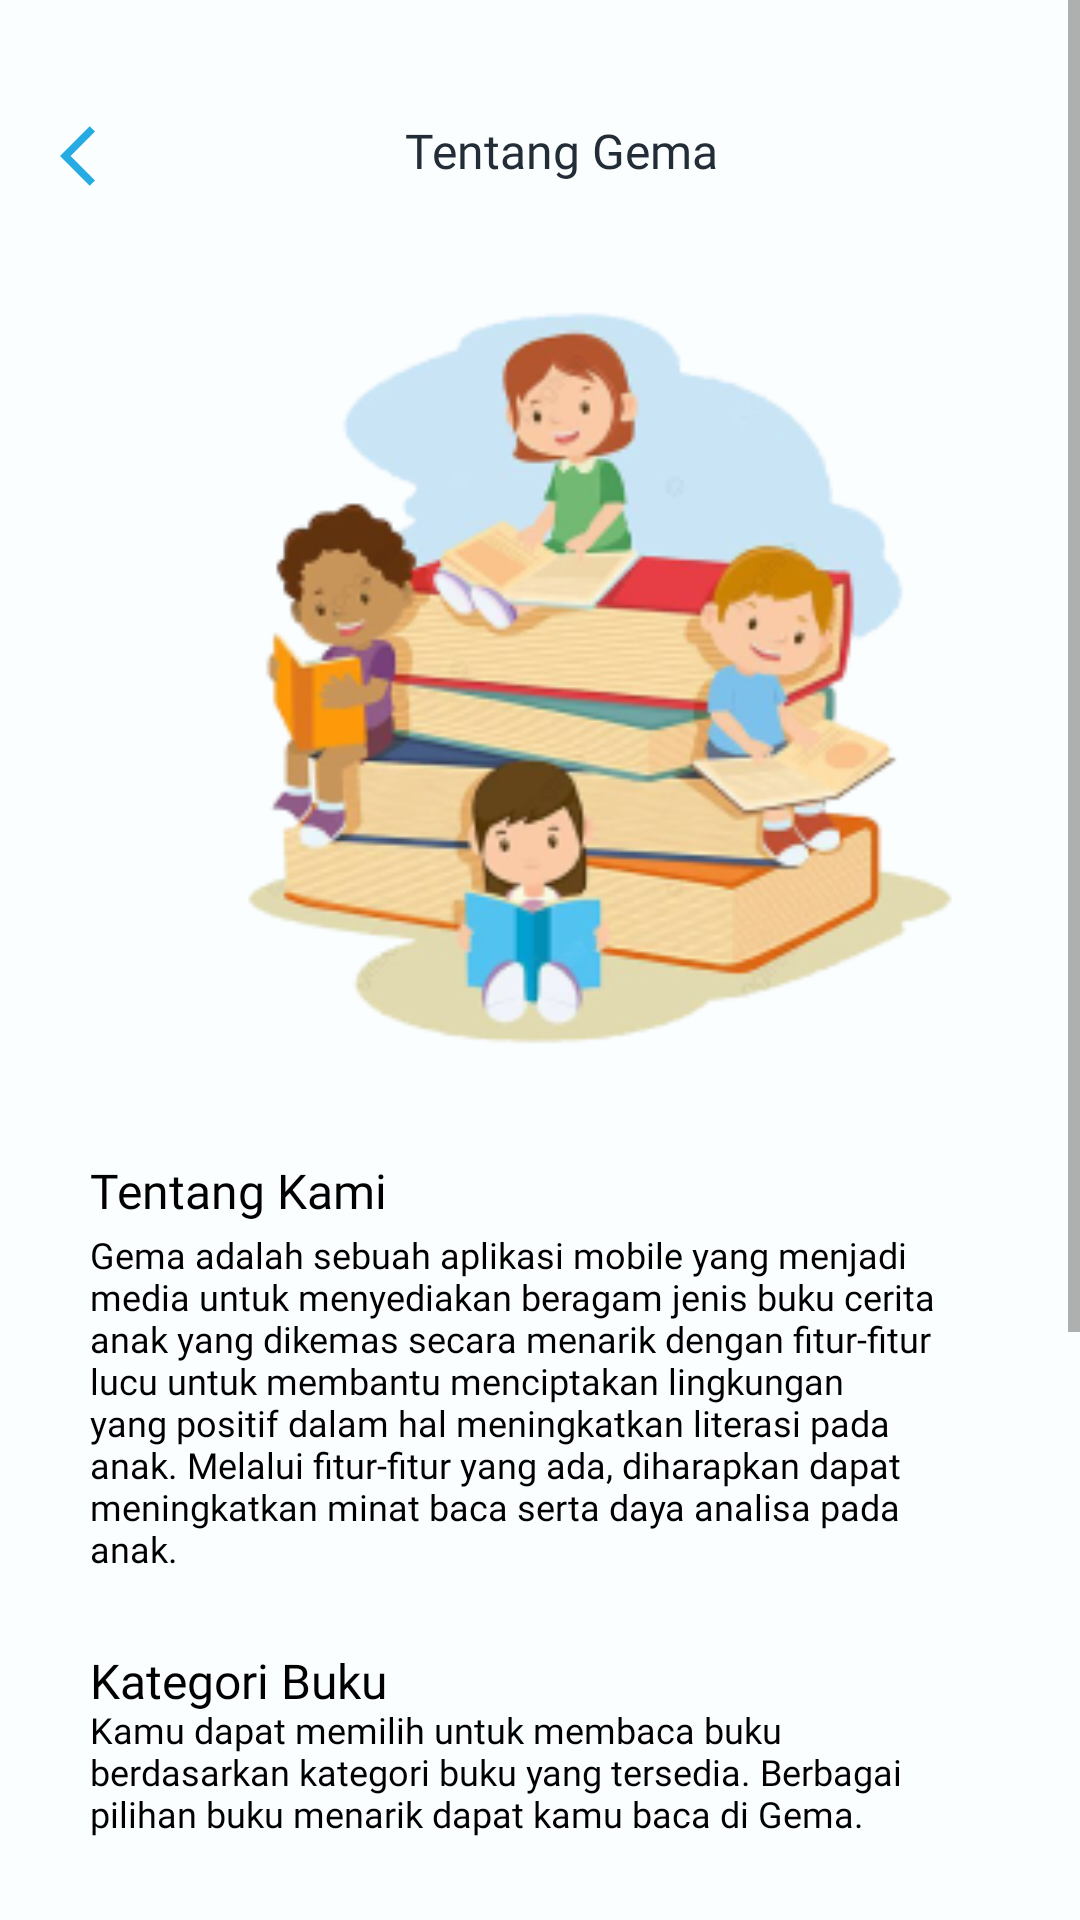

Screen size 1080*1920. Icon name, then its center in pixels as (x,y):
arrow back: (77,156)
